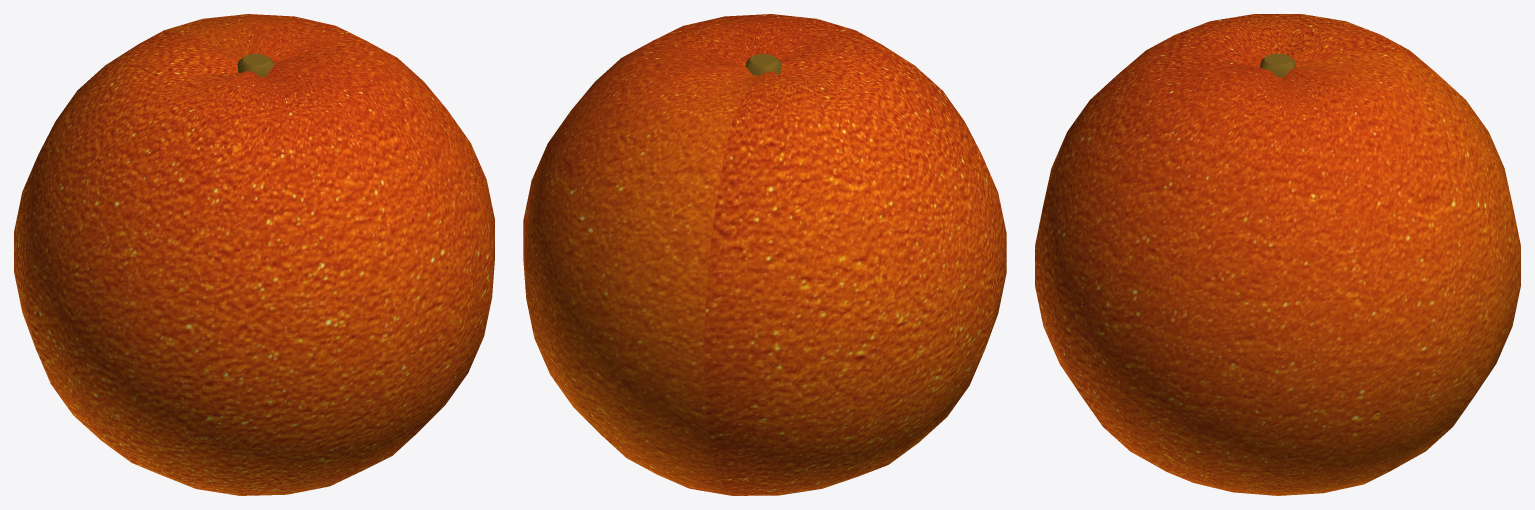
File: naranja.fbx
3 renders of one model, left to right at view 1: azimuth 30°, elevation 25°; view 2: azimuth 150°, elevation 25°; view 3: azimuth 270°, elevation 25°, orthographic.
Parts seen in each view (by area): view 1: pSphere1; view 2: pSphere1; view 3: pSphere1.
Part boxes in pixels (bbox=[...]): pSphere1: bbox=[14, 14, 494, 495]; pSphere1: bbox=[523, 14, 1006, 495]; pSphere1: bbox=[1035, 14, 1520, 495].
Size of the model in its own units: 1.97 by 1.83 by 1.98.
